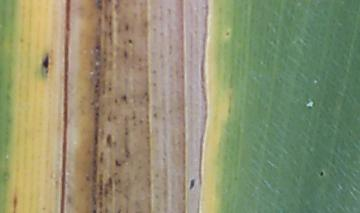tarspot: (41, 53, 50, 75), (188, 177, 196, 191), (103, 177, 113, 188), (105, 133, 112, 146), (122, 50, 130, 60), (97, 173, 104, 184), (123, 22, 130, 32), (113, 159, 121, 167), (99, 151, 104, 162), (121, 94, 127, 103), (151, 112, 158, 119), (318, 169, 324, 177), (105, 114, 111, 122), (103, 188, 108, 197), (153, 172, 160, 178), (84, 175, 90, 182), (97, 201, 103, 208), (112, 114, 118, 120), (123, 130, 129, 136), (116, 178, 122, 184), (97, 190, 103, 196), (97, 184, 103, 190), (224, 31, 230, 36), (127, 39, 133, 44), (113, 98, 118, 104), (131, 114, 136, 120), (151, 69, 156, 75), (151, 82, 157, 87), (143, 90, 148, 96), (107, 86, 112, 92), (116, 207, 121, 213), (91, 208, 97, 213), (138, 119, 143, 124), (137, 57, 142, 62)
